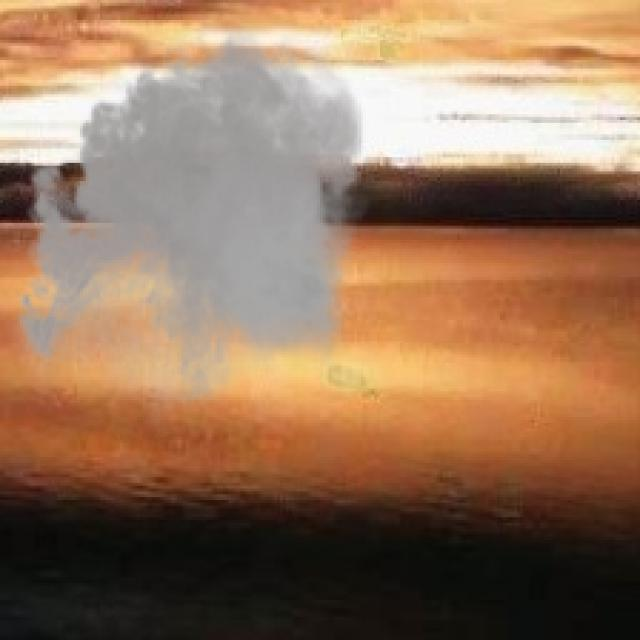Smoke: (6, 14, 377, 426)
